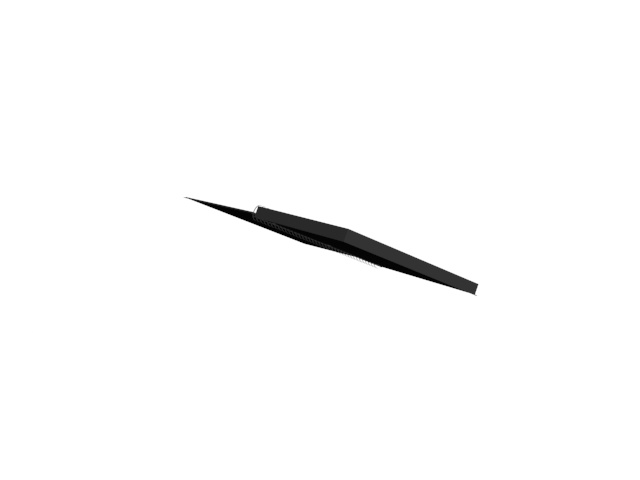paper_notebook: (177, 193, 480, 298)
